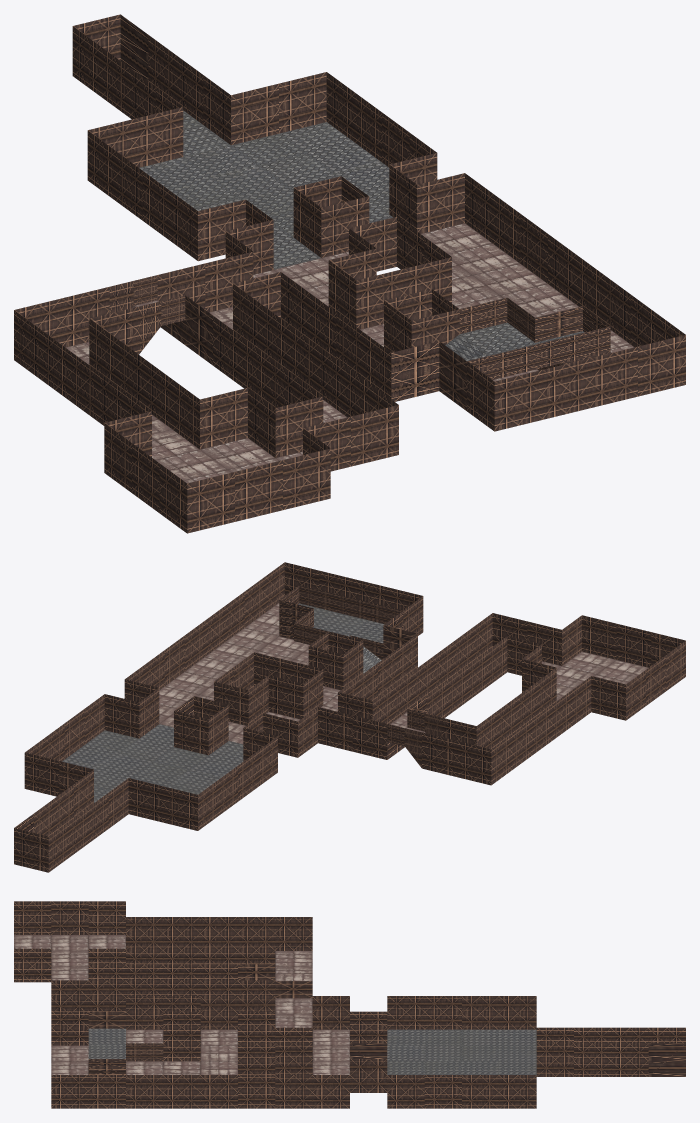
File: level00.obj
3 renders of one model, top to bottom at view 1: azimuth 30°, elevation 25°; view 2: azimuth 150°, elevation 25°; view 3: azimuth 270°, elevation 25°, orthographic. The views are drawn at different scales.
Visible parts, largest first — view 1: Plane_Plane_Wall, Plane_Plane_Floor2, Plane_Plane_Floor1; view 2: Plane_Plane_Wall, Plane_Plane_Floor2, Plane_Plane_Floor1; view 3: Plane_Plane_Wall, Plane_Plane_Floor1, Plane_Plane_Floor2.
Part boxes in pixels (x1,y1,x2,y2): Plane_Plane_Wall: (14, 14, 685, 533); Plane_Plane_Floor2: (139, 110, 584, 361); Plane_Plane_Floor1: (65, 223, 634, 483); Plane_Plane_Wall: (14, 562, 685, 872); Plane_Plane_Floor2: (62, 603, 384, 802); Plane_Plane_Floor1: (159, 603, 648, 744); Plane_Plane_Wall: (14, 901, 685, 1108); Plane_Plane_Floor1: (14, 935, 349, 1074); Plane_Plane_Floor2: (88, 1028, 536, 1074).
Bounding box in the file's own units: 220 × 20.16 × 360.
3 materials, 3 textured.
